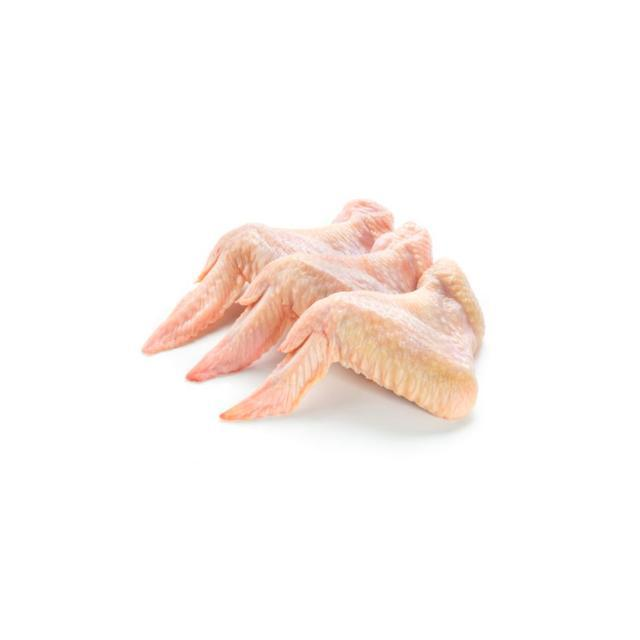wing: (274, 277, 502, 464), (112, 188, 398, 326), (205, 226, 435, 382)
